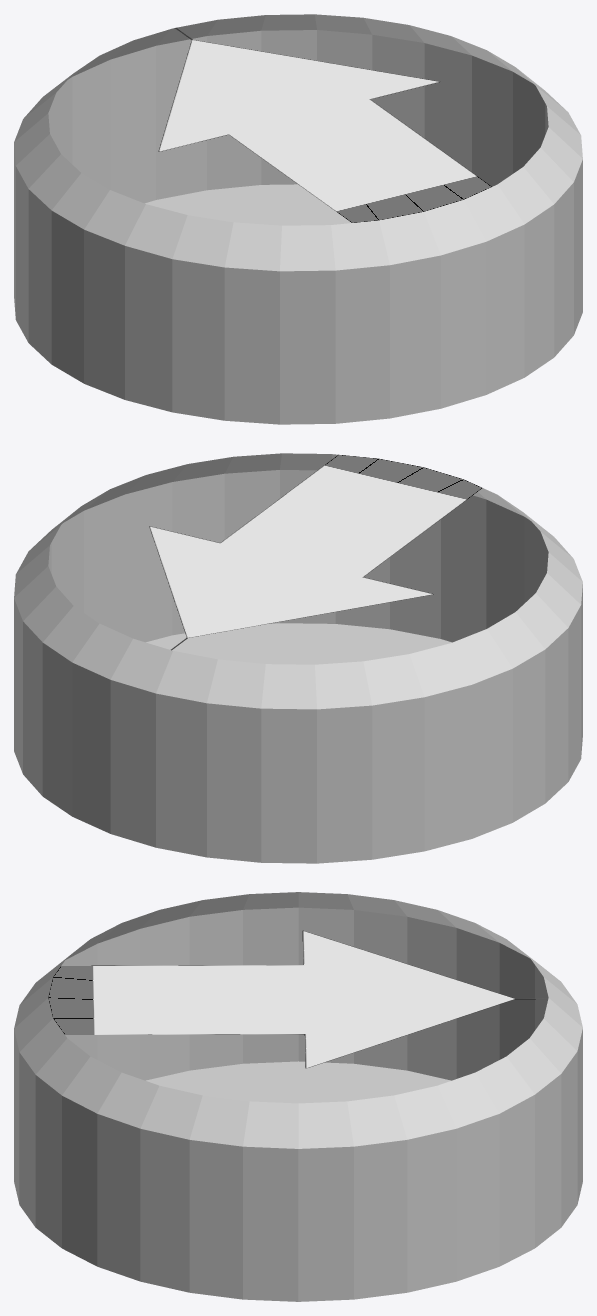
The model's file is Button W_arrow.fbx.
The picture shows the model from 3 angles, top to bottom: view 1: azimuth 30°, elevation 25°; view 2: azimuth 150°, elevation 25°; view 3: azimuth 270°, elevation 25°; orthographic projection.
Parts seen in each view (by area): view 1: Cylinder; view 2: Cylinder; view 3: Cylinder.
Boxes of the visible parts, bbox=[...] form: Cylinder: bbox=[14, 14, 582, 424]; Cylinder: bbox=[14, 453, 582, 863]; Cylinder: bbox=[14, 892, 582, 1301].
Bounding box in the file's own units: 200 × 71.35 × 200.
2 materials, 1 textured.
